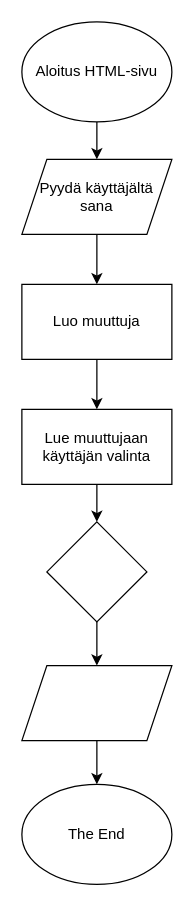
This 194x906 diagram has some shape labels left out. Here are the shapes that lost their labels. From the top down, the centre of each, then its label:
At [96,571]: "Syötä sana".
At [96,702]: "Tulostaa syötettyyn numeroon asti olevat parilliset numerot".
